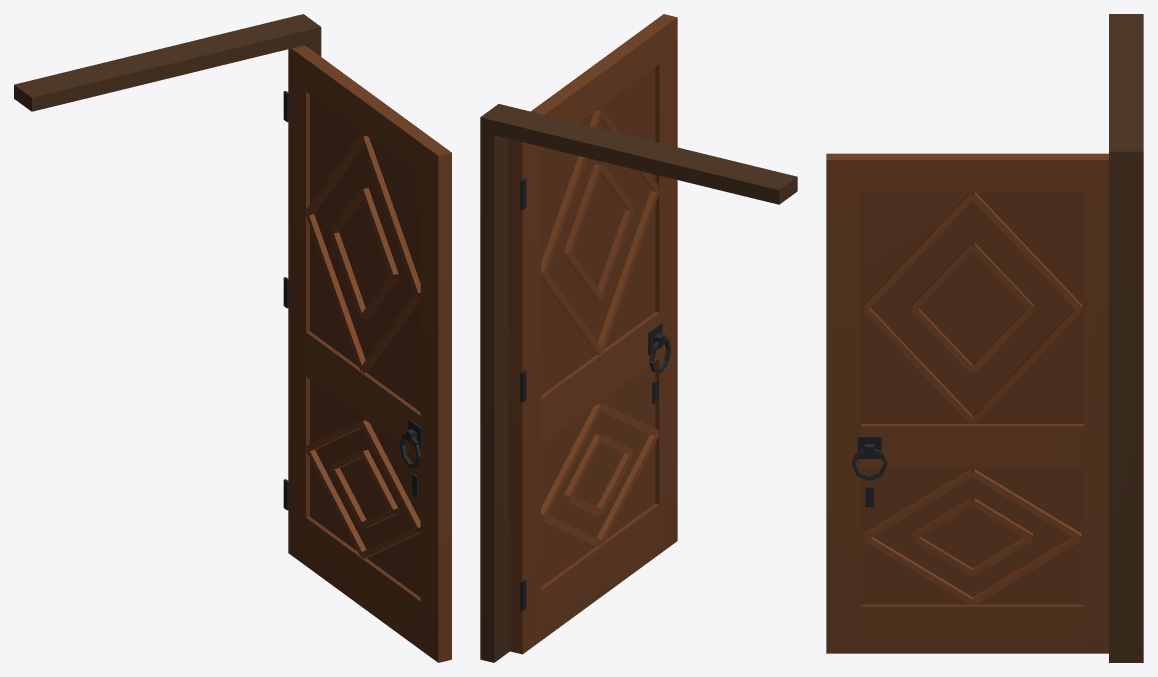
Rendered from door.oak_slim_open_pair_left.diamond.glb.
The picture shows the model from 3 angles, left to right: view 1: azimuth 30°, elevation 25°; view 2: azimuth 150°, elevation 25°; view 3: azimuth 270°, elevation 25°; orthographic projection. The views are drawn at different scales.
Visible parts, largest first — view 1: door_oak_slim_open_pair_left_diamond; view 2: door_oak_slim_open_pair_left_diamond; view 3: door_oak_slim_open_pair_left_diamond.
Boxes of the visible parts, x1=… form: door_oak_slim_open_pair_left_diamond: x1=14, y1=14, x2=451, y2=662; door_oak_slim_open_pair_left_diamond: x1=480, y1=14, x2=797, y2=662; door_oak_slim_open_pair_left_diamond: x1=826, y1=14, x2=1143, y2=662.
Size of what is drawn, in the model's own units: 1.5 by 2.6 by 1.46.
